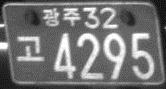2: (75, 31, 104, 80), (100, 5, 119, 30)
3: (81, 5, 100, 30)
4: (52, 31, 76, 80)
5: (130, 31, 155, 79)
9: (102, 31, 126, 80)
고: (14, 34, 45, 62)
광주_O: (42, 6, 81, 27)
